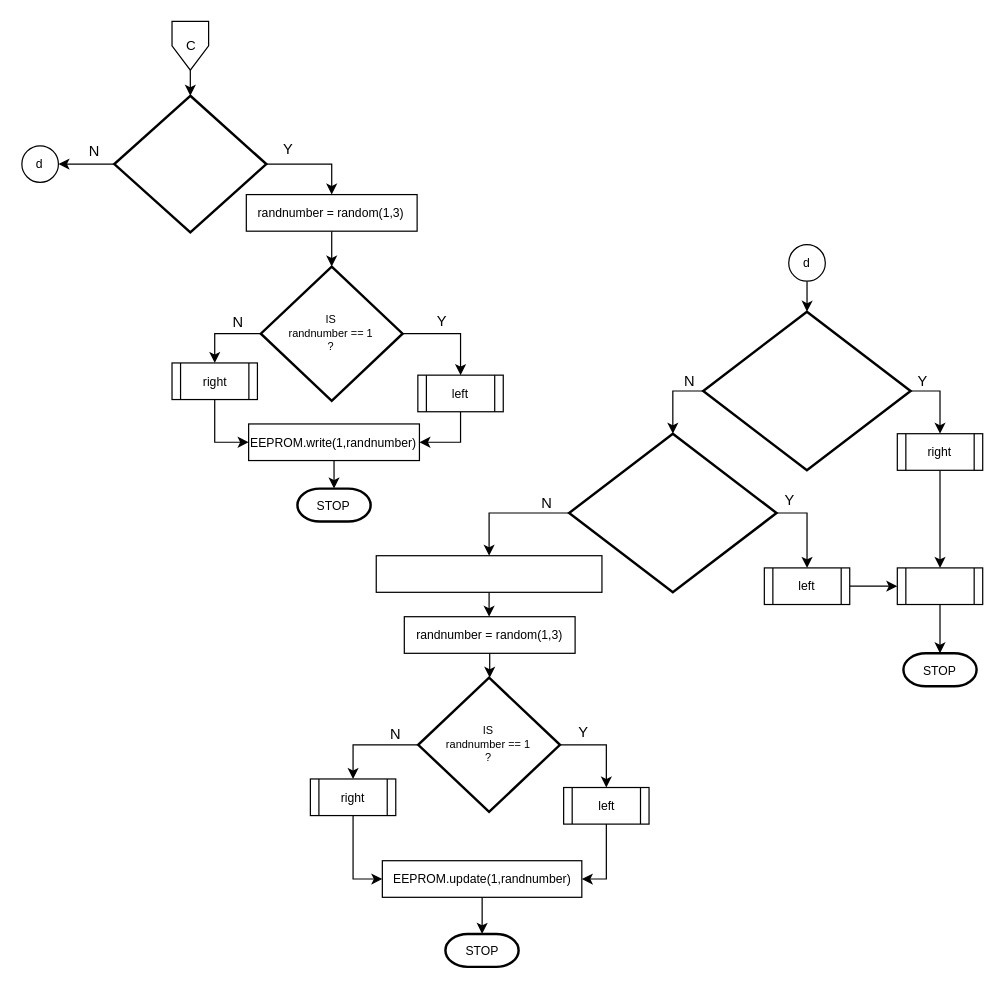
Some shapes in this 1004 by 989 pixel diagram are drawn without their labels. The shapes that lost their labels are listed below. From the top down, each one's box as (x1, y1, x2, y2) in pixels, then its label:
(112, 94, 267, 233): IS EEPROM. read(1) == 1 ?
(701, 310, 911, 471): IS EEPROM.read(0) == 1 and EEPROM.read(1) == 1 ?
(567, 432, 777, 593): IS EEPROM.read(0) == 2 and EEPROM.read(1) == 2 ?
(375, 554, 602, 592): EEPROM.update(0,EEPROM.read(1))
(896, 567, 983, 605): clear_turn
